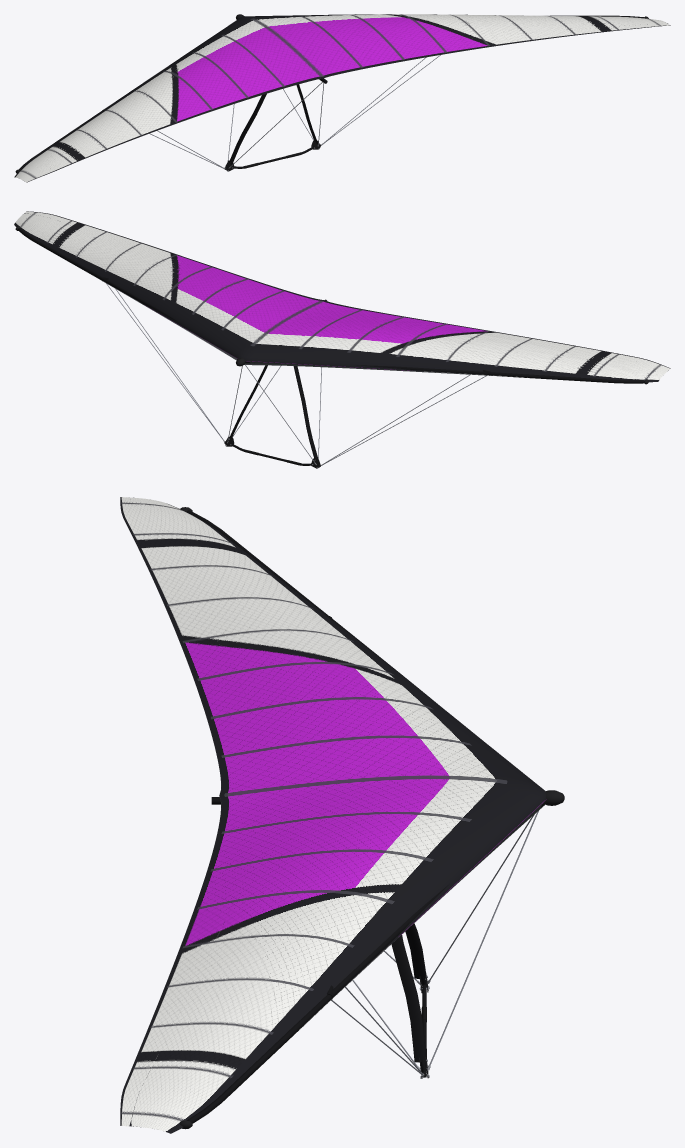
File: glider_seed_spyder.glb
3 views of the same model, one above another, from view 1: azimuth 30°, elevation 25°; view 2: azimuth 150°, elevation 25°; view 3: azimuth 270°, elevation 25° (orthographic). The views are drawn at different scales.
Visible parts, largest first — view 1: Sail, ControlFrame, Frame; view 2: Sail, ControlFrame, Frame; view 3: Sail, ControlFrame, Frame.
Part boxes in pixels (left/top/right/bottom): Sail: left=14, top=14, right=670, bottom=182; ControlFrame: left=149, top=55, right=440, bottom=171; Frame: left=15, top=14, right=648, bottom=173; Sail: left=14, top=211, right=670, bottom=382; ControlFrame: left=106, top=283, right=486, bottom=468; Frame: left=15, top=226, right=648, bottom=384; Sail: left=120, top=497, right=546, bottom=1133; ControlFrame: left=331, top=811, right=538, bottom=1078; Frame: left=179, top=507, right=564, bottom=1129.
Size of the model in its own units: 9.8 by 1.92 by 2.93.
Materials: 8 (1 with a texture image).
